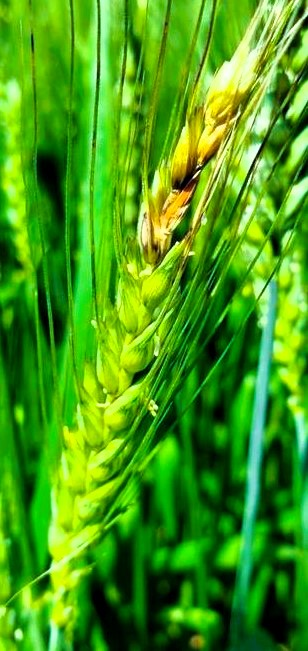Wheat scab: (54, 31, 271, 587)
